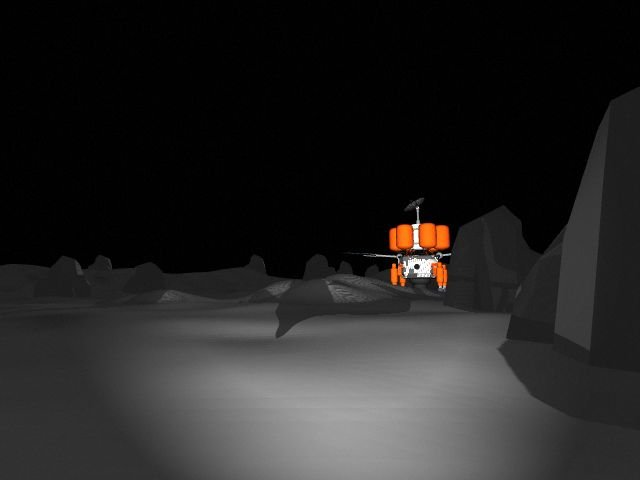homebase: (349, 196, 490, 293)
